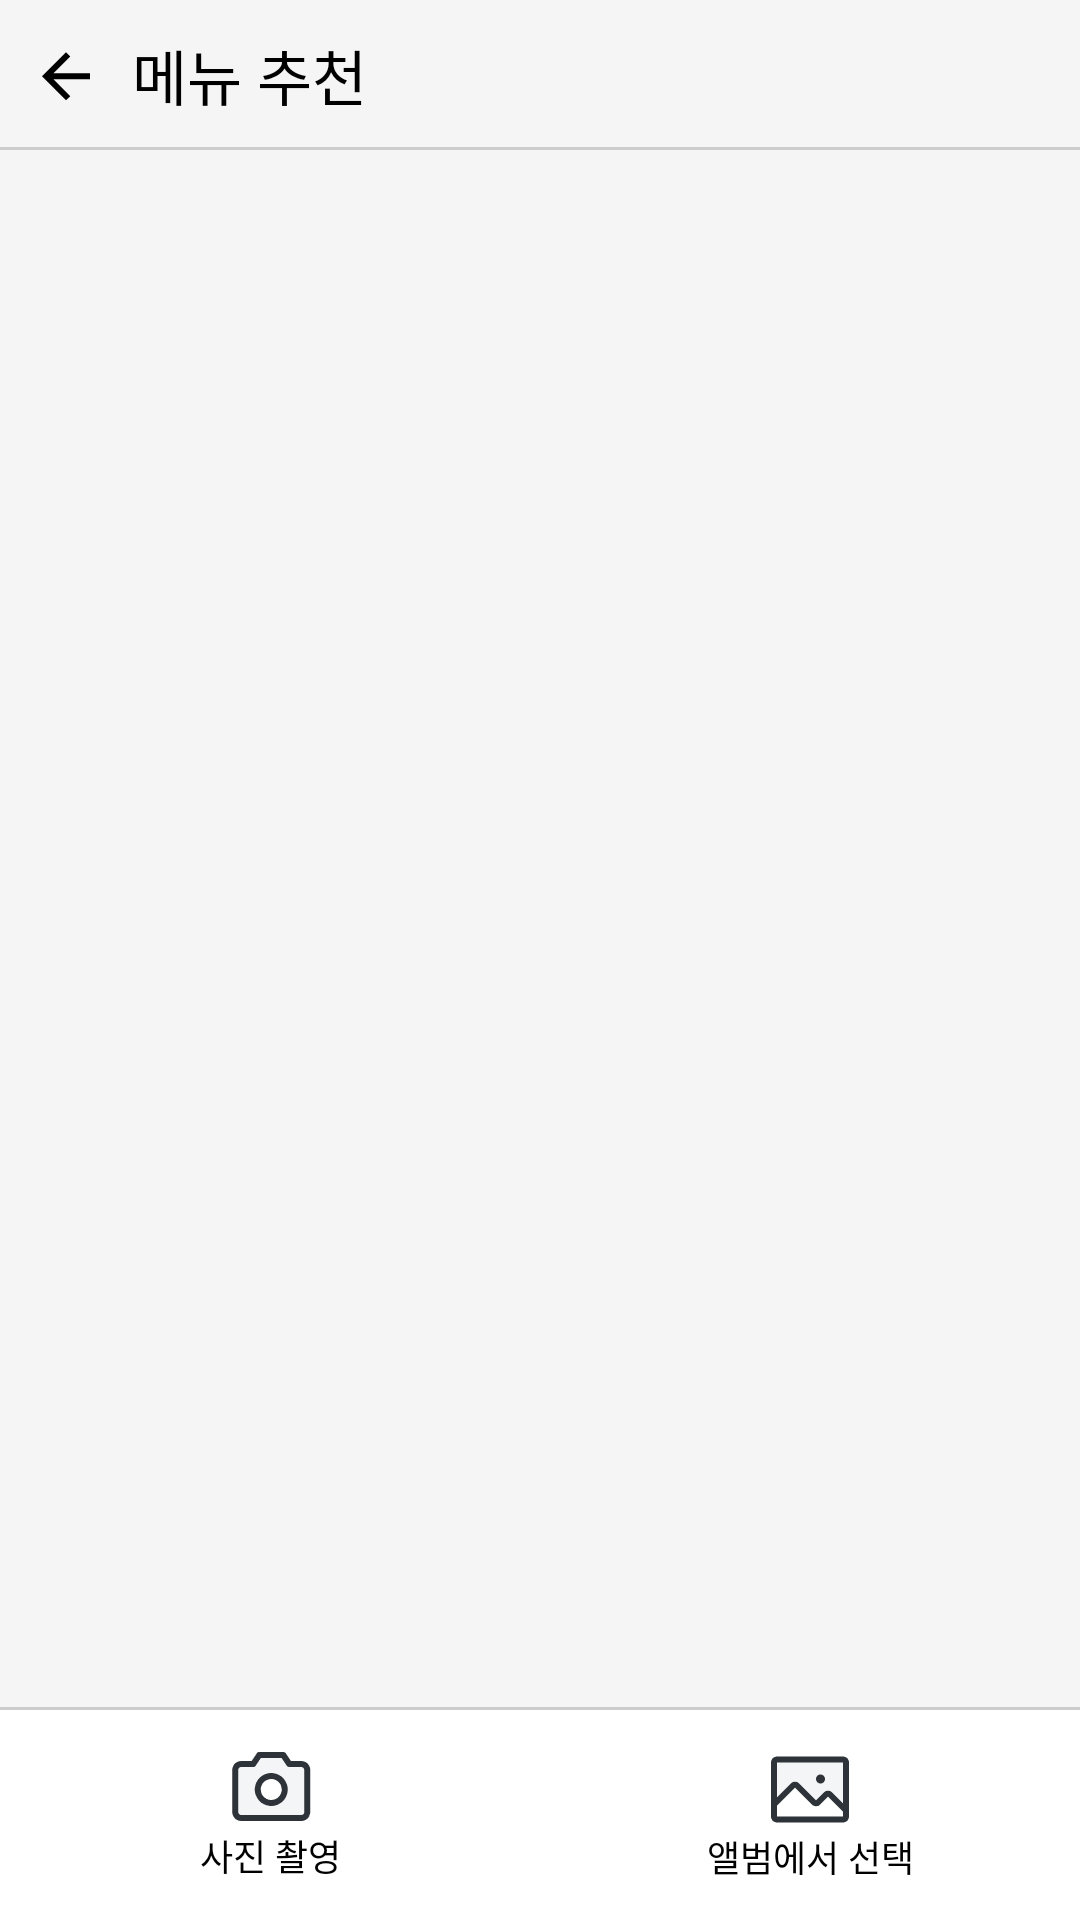

Screen size 1080 × 1920. Icon name, then its box in pixels as (x1, y1, x2, y2):
arrow back: (42, 52, 90, 100)
